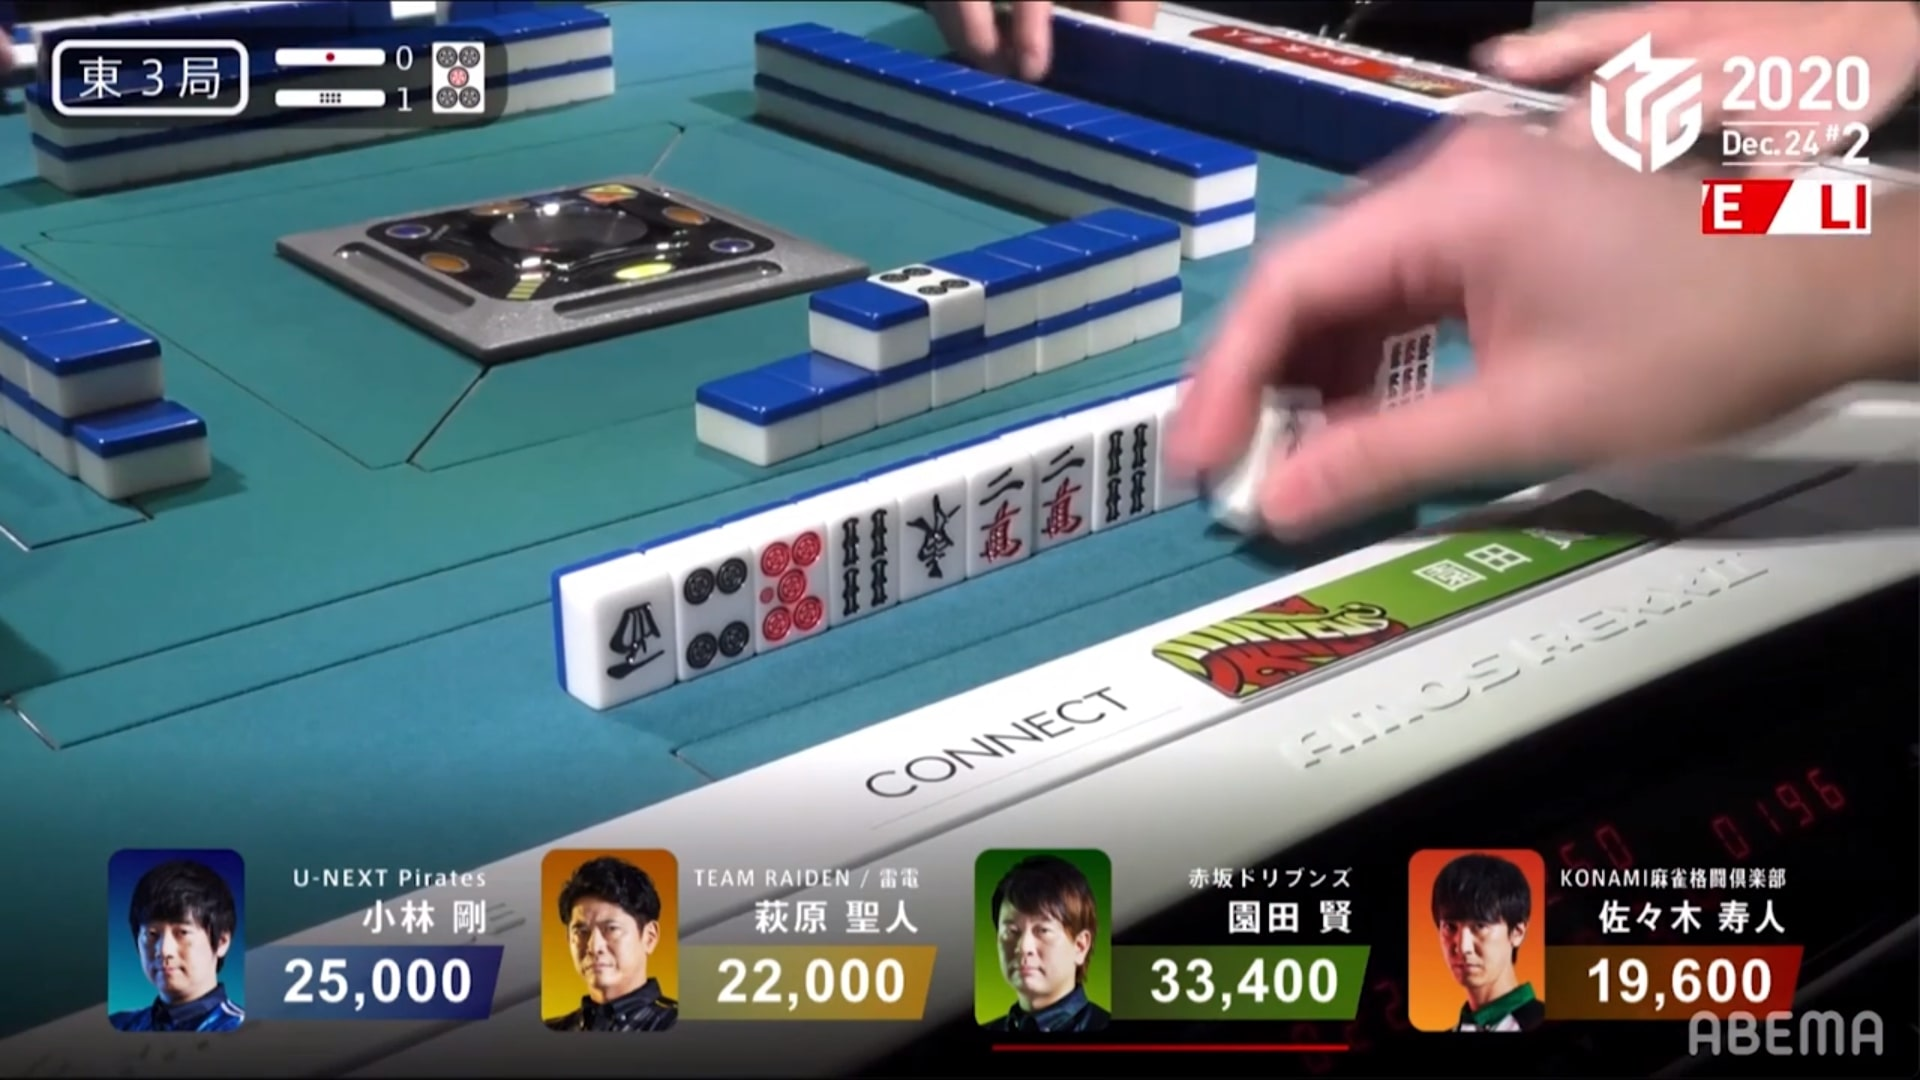2m: (965, 459, 1029, 567), (1034, 442, 1095, 541)
4p: (676, 554, 752, 669)
4s: (828, 504, 894, 612), (1100, 419, 1153, 520)
5pr: (756, 533, 828, 638)
hand_ton_3: (47, 32, 262, 119)
round_1: (269, 80, 419, 116)
sha: (593, 578, 670, 696)
team_drivens: (1151, 567, 1435, 700)
ton: (902, 488, 961, 589)
